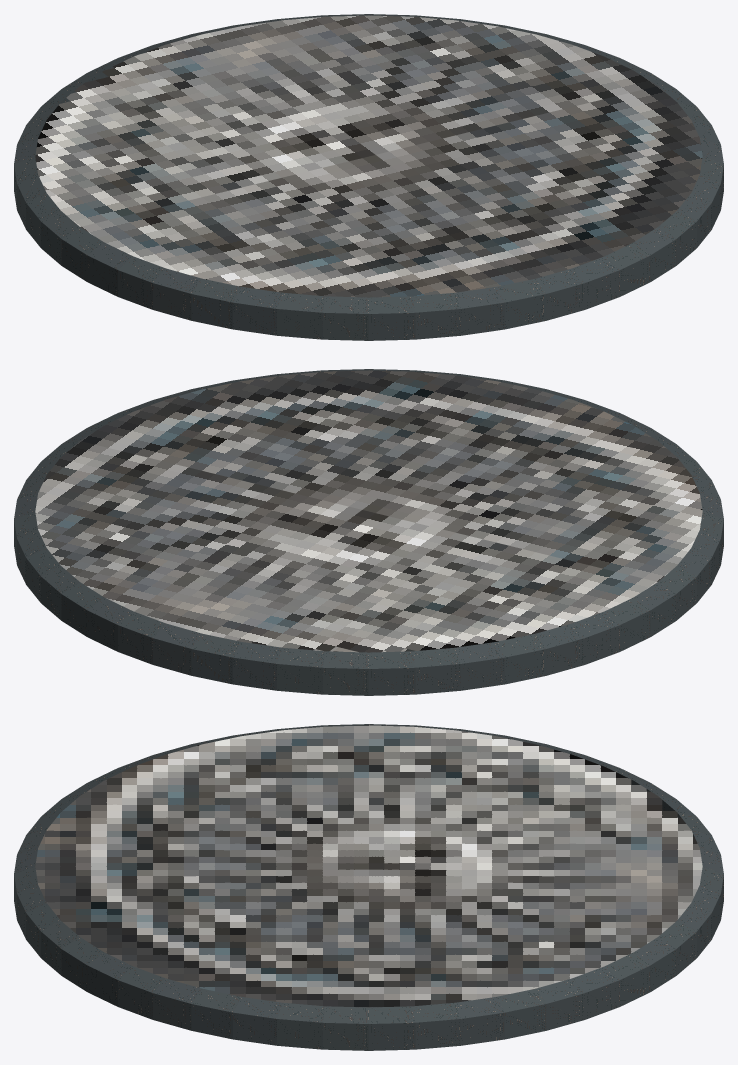
The model's file is silver.obj.
The picture shows the model from 3 angles, top to bottom: view 1: azimuth 30°, elevation 25°; view 2: azimuth 150°, elevation 25°; view 3: azimuth 270°, elevation 25°; orthographic projection.
Parts seen in each view (by area): view 1: CaelumDropCoin_silver; view 2: CaelumDropCoin_silver; view 3: CaelumDropCoin_silver.
Boxes of the visible parts, x1,y1,x2,y2 form: CaelumDropCoin_silver: (14,14,723,340); CaelumDropCoin_silver: (14,369,723,695); CaelumDropCoin_silver: (14,724,723,1050).
Size of the model in its own units: 46 by 3 by 46.
Materials: 1 (1 with a texture image).
